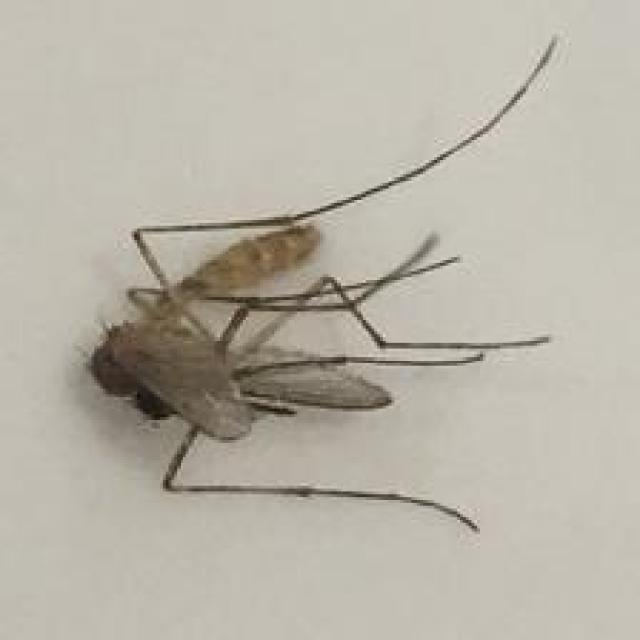Culex: (81, 32, 562, 534)
